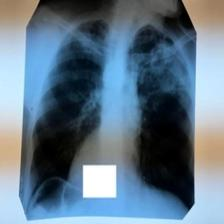tuberculosis: (25, 11, 194, 215)
